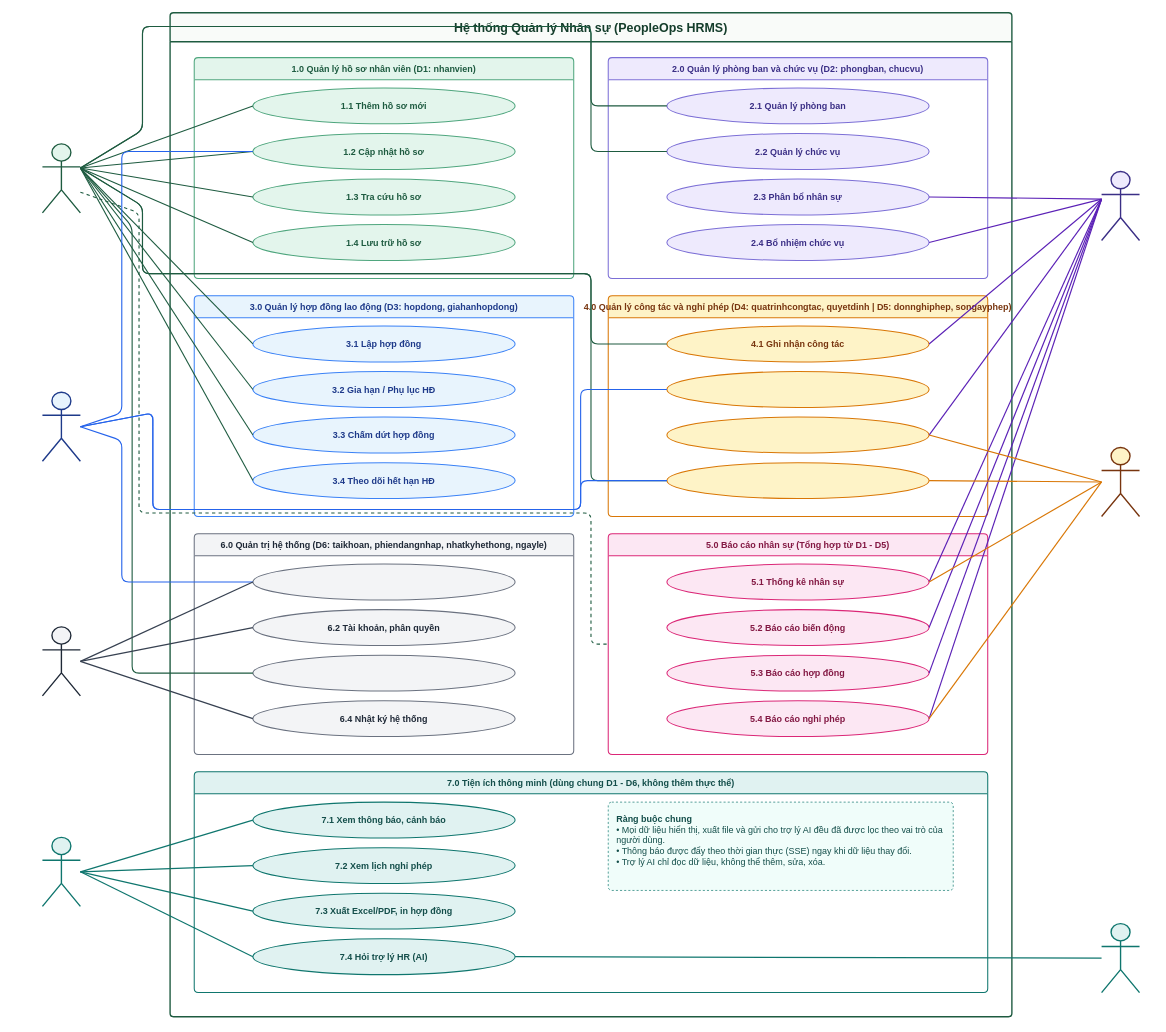
Image size: 1166x1032. Some labels were removed from this diagram. Each missing label, with the centre of its shape:
4.2 Đăng ký nghỉ phép: the point at 797,389
4.3 Duyệt nghỉ phép: the point at 797,434
4.4 Theo dõi ngày phép: the point at 797,480
6.1 Đăng nhập, đổi mật khẩu: the point at 383,581
6.3 Quản lý ngày lễ: the point at 383,672
Ban giám đốc: the point at 1120,205
Cán bộ nhân sự: the point at 61,178
Dịch vụ AI (Claude API): the point at 1120,958
Người dùng hệ thống (cả 5 tác nhân): the point at 61,871
Nhân viên: the point at 61,426
Quản trị viên: the point at 61,661
Trưởng phòng: the point at 1120,481
